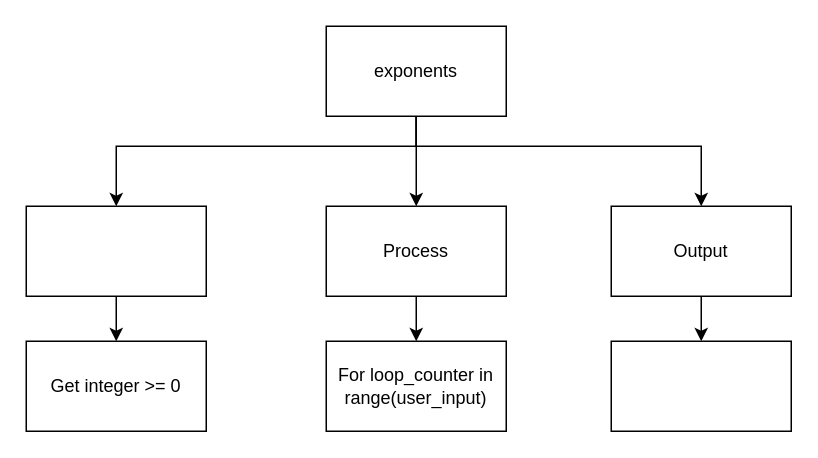
Some shapes in this 818 by 458 pixel diagram are drawn without their labels. The shapes that lost their labels are listed below. From the top down, each one's box as (x1, y1, x2, y2) in pixels, then its label:
(25, 205, 206, 296): Input
(610, 340, 791, 431): Show answer
